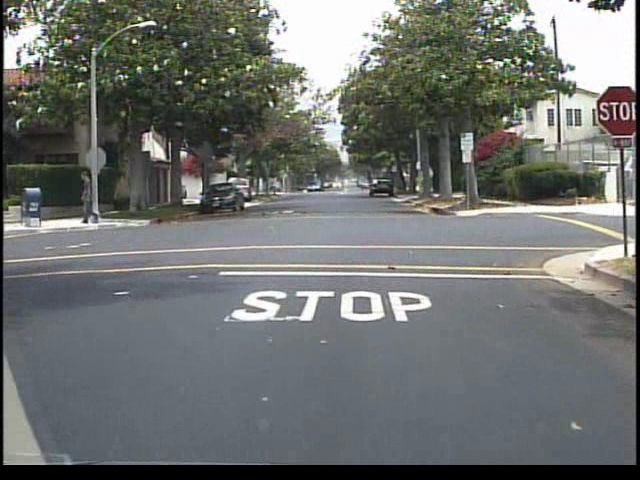person: (76, 164, 105, 228)
